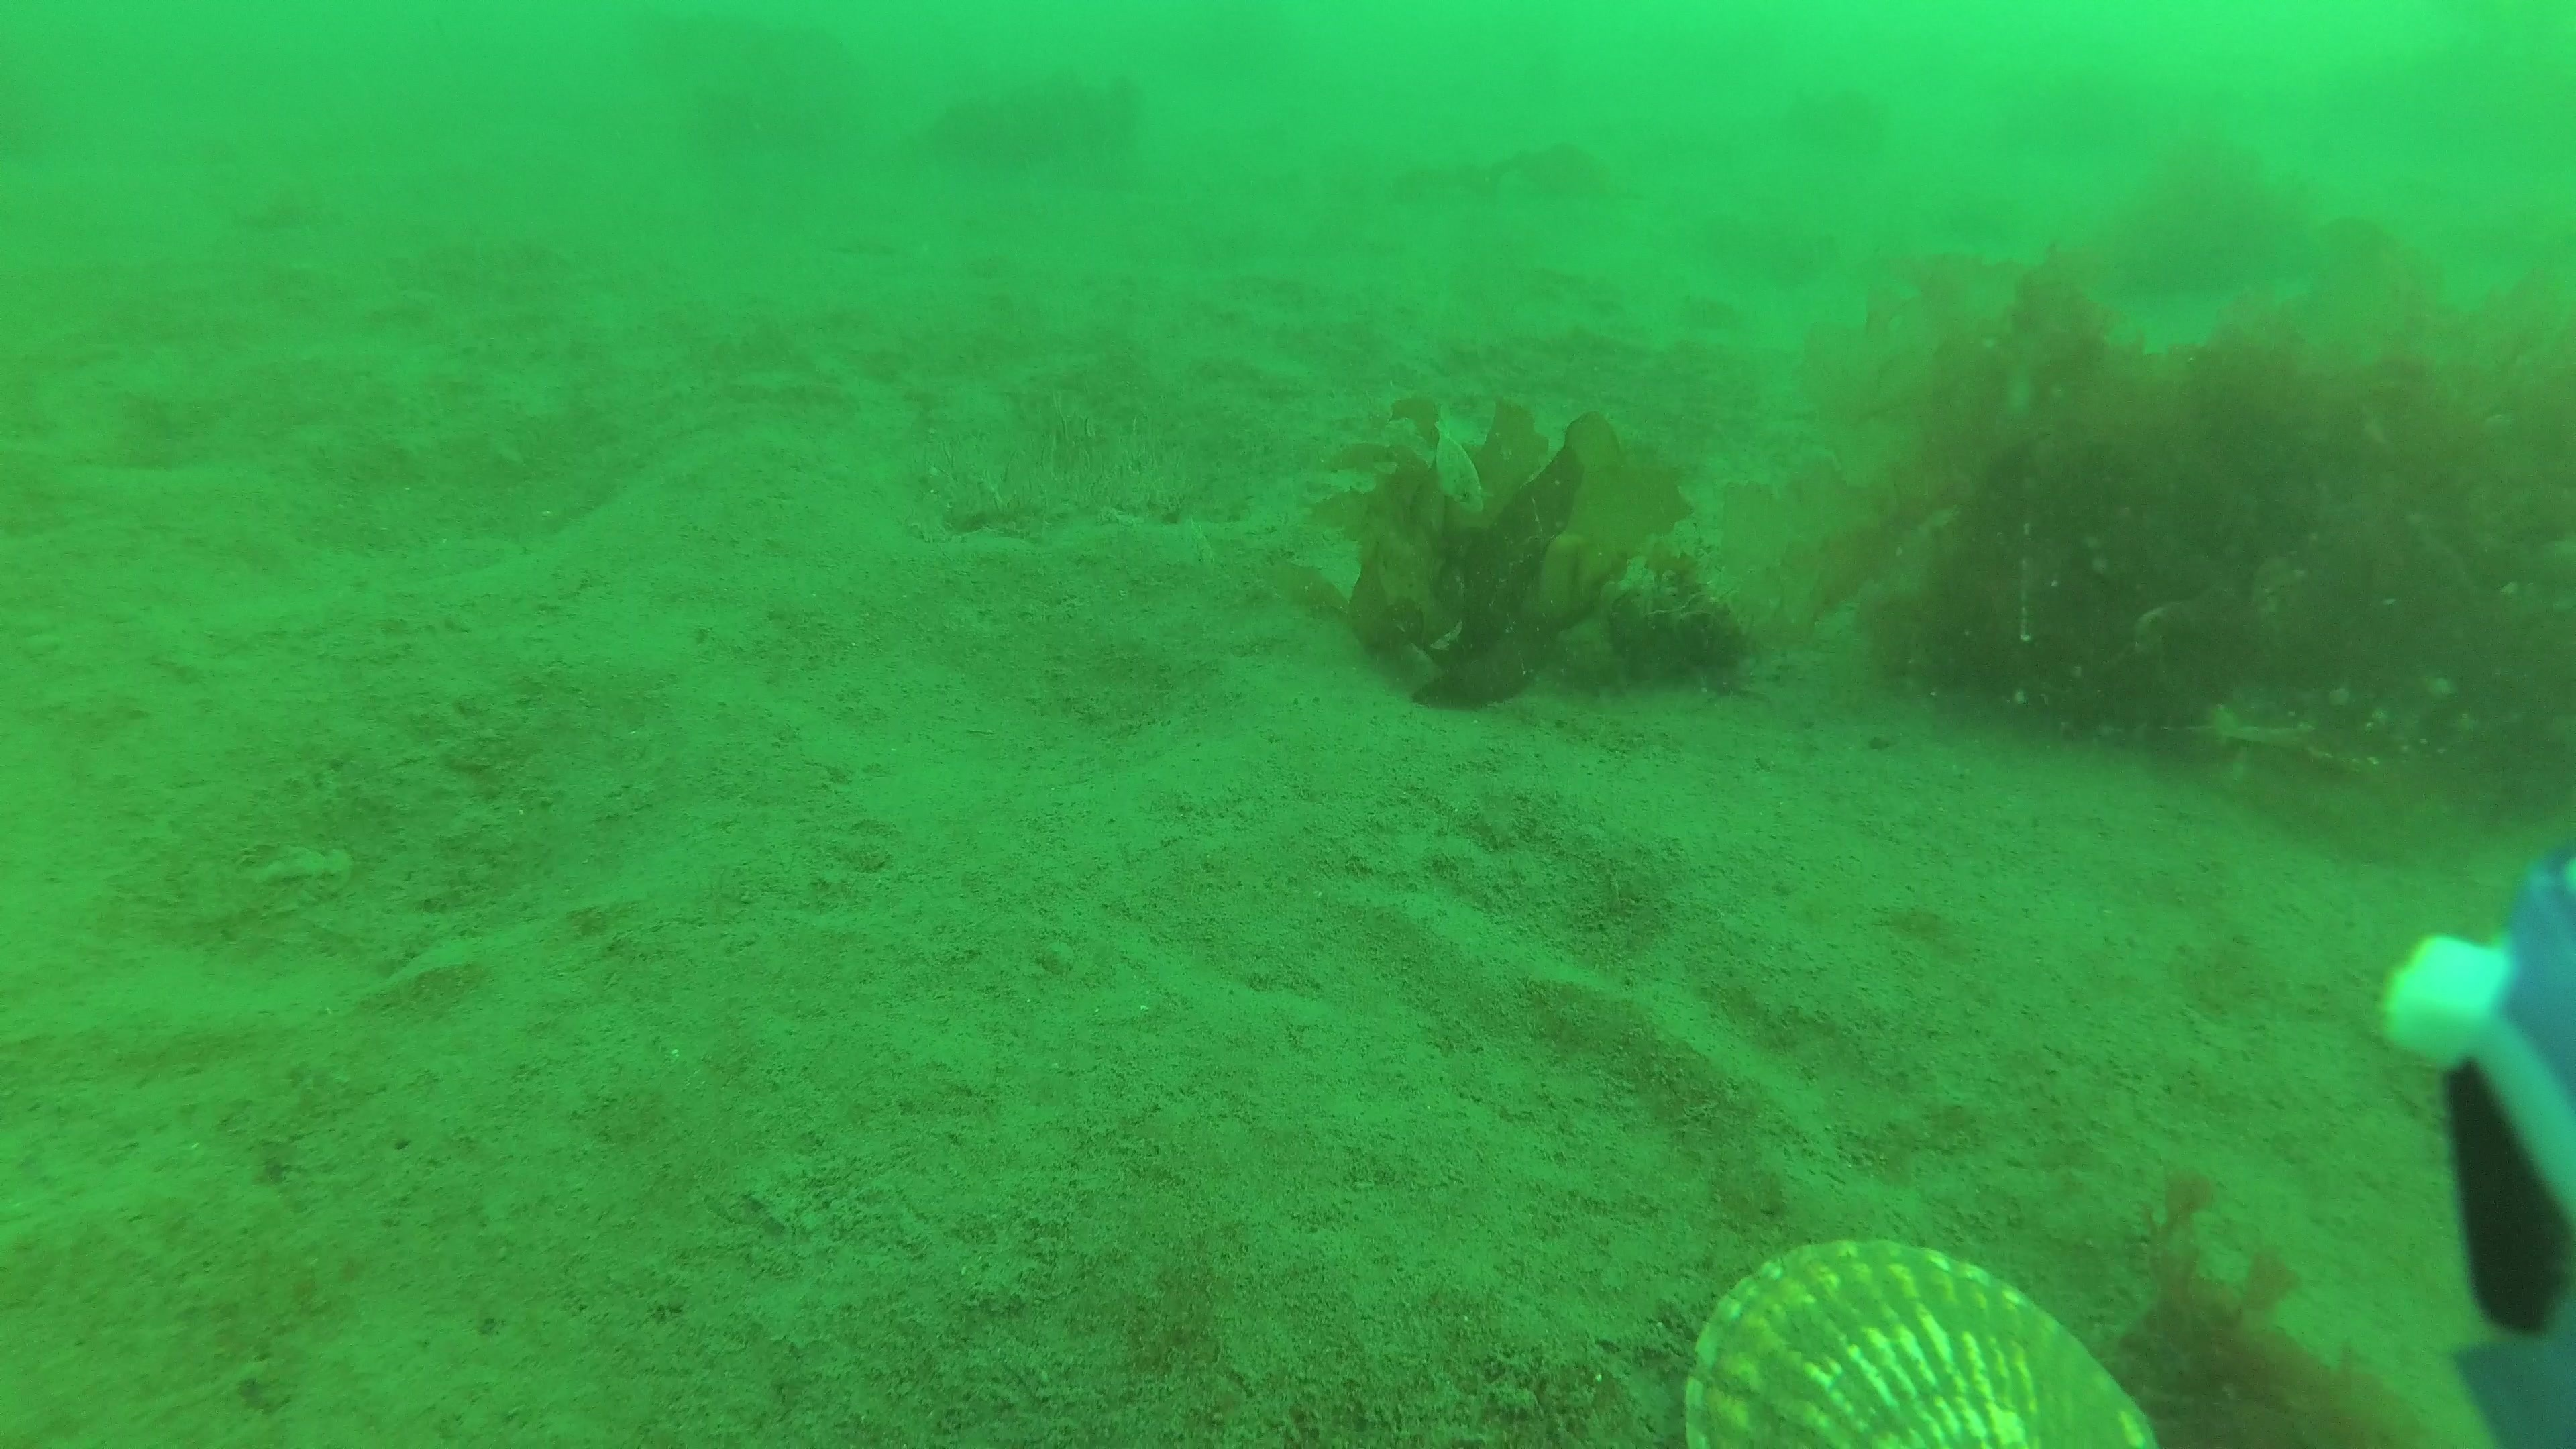scallop: (1683, 1238, 2162, 1449)
